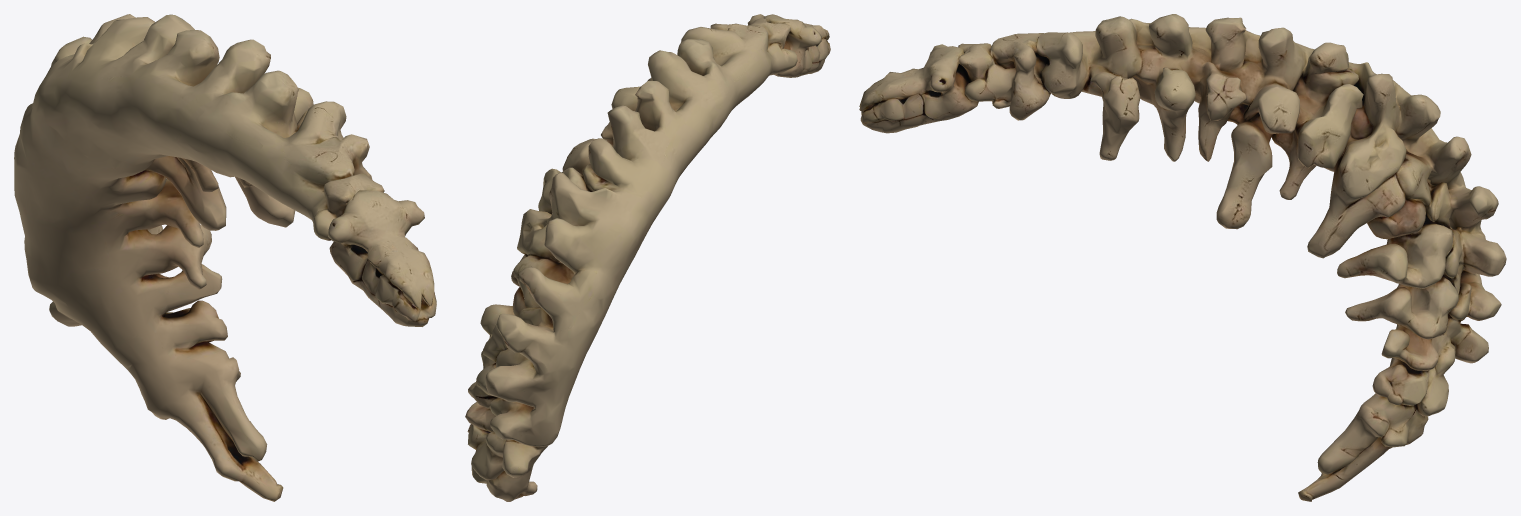
Rendered from tail_vertebrae.glb.
The picture shows the model from 3 angles, left to right: view 1: azimuth 30°, elevation 25°; view 2: azimuth 150°, elevation 25°; view 3: azimuth 270°, elevation 25°; orthographic projection. The views are drawn at different scales.
Parts seen in each view (by area): view 1: tripo_node_9f206449-1540-400e-b222-0fb75667561f; view 2: tripo_node_9f206449-1540-400e-b222-0fb75667561f; view 3: tripo_node_9f206449-1540-400e-b222-0fb75667561f.
Part boxes in pixels (box(x1,y1,x2,y2)): tripo_node_9f206449-1540-400e-b222-0fb75667561f: box(14, 14, 436, 501); tripo_node_9f206449-1540-400e-b222-0fb75667561f: box(465, 14, 830, 501); tripo_node_9f206449-1540-400e-b222-0fb75667561f: box(859, 14, 1506, 501).
Bounding box in the file's own units: 0.2941 × 0.7562 × 1.
1 material, 1 textured.
